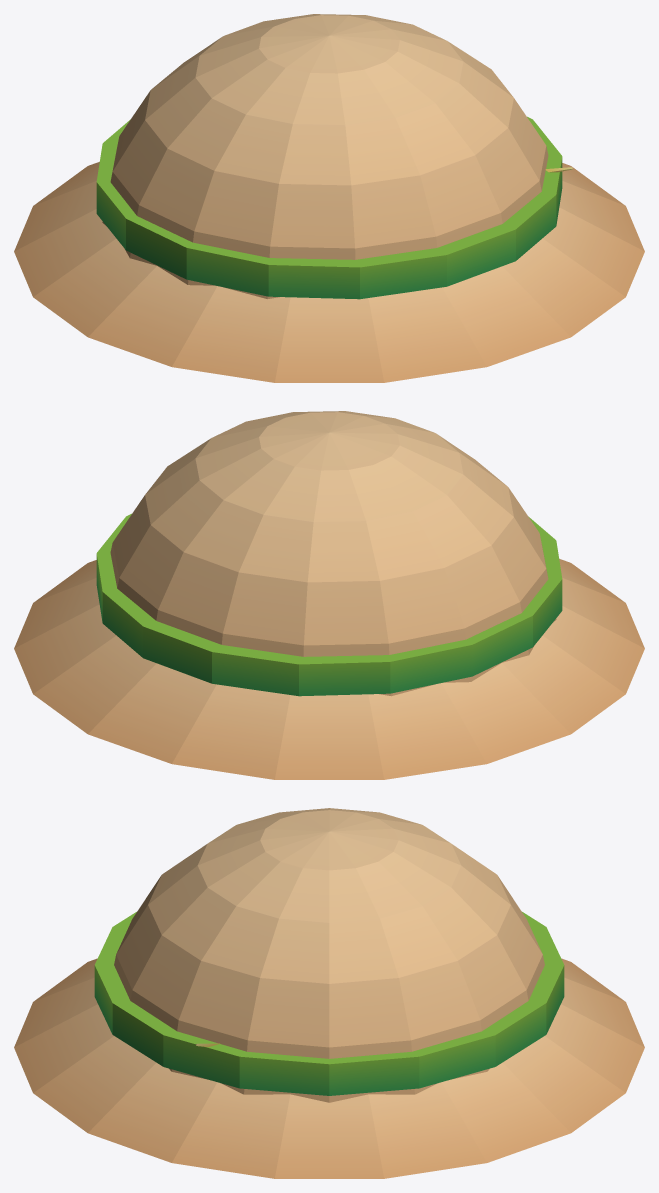
Rendered from floppy_hat.glb.
3 renders of one model, top to bottom at view 1: azimuth 30°, elevation 25°; view 2: azimuth 150°, elevation 25°; view 3: azimuth 270°, elevation 25°, orthographic.
Parts seen in each view (by area): view 1: floppy_hat; view 2: floppy_hat; view 3: floppy_hat.
Part boxes in pixels (x1,y1,x2,y2): floppy_hat: [14, 14, 644, 382]; floppy_hat: [14, 411, 644, 779]; floppy_hat: [14, 808, 644, 1178].
Bounding box in the file's own units: 1.77 × 0.68 × 1.8.
1 material, 1 textured.
